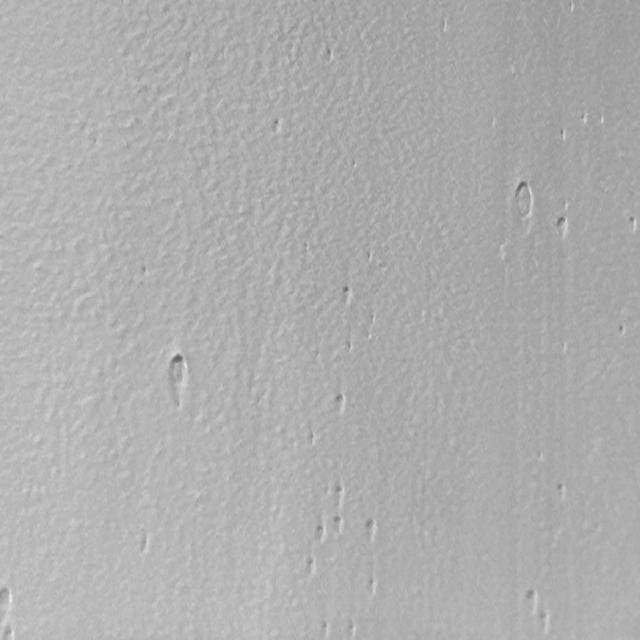pin holes: (164, 348, 192, 411), (511, 180, 536, 218), (0, 587, 14, 625), (535, 610, 554, 636), (332, 391, 350, 418), (523, 586, 541, 613), (136, 531, 154, 557), (551, 216, 570, 240), (331, 482, 347, 507), (302, 557, 320, 579), (363, 517, 379, 541), (340, 282, 356, 306), (312, 521, 327, 544), (625, 214, 640, 236), (366, 574, 379, 598), (270, 118, 286, 137), (553, 480, 568, 500), (304, 428, 316, 452), (318, 619, 332, 639), (345, 619, 358, 639), (362, 327, 373, 350), (368, 310, 379, 332), (332, 514, 344, 534), (324, 47, 336, 63), (346, 338, 356, 357), (616, 323, 628, 338), (556, 127, 568, 142), (365, 252, 376, 267)
